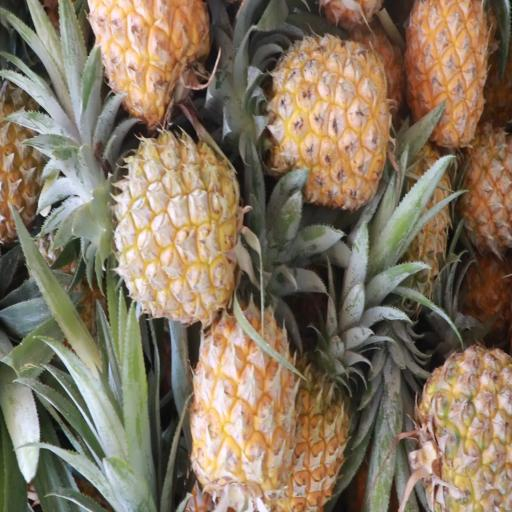------------------------------: (416, 346, 512, 512)
Pineapple - v8 v1: (104, 130, 242, 333), (248, 38, 392, 211), (186, 295, 296, 512), (276, 272, 352, 512), (405, 1, 491, 149)
